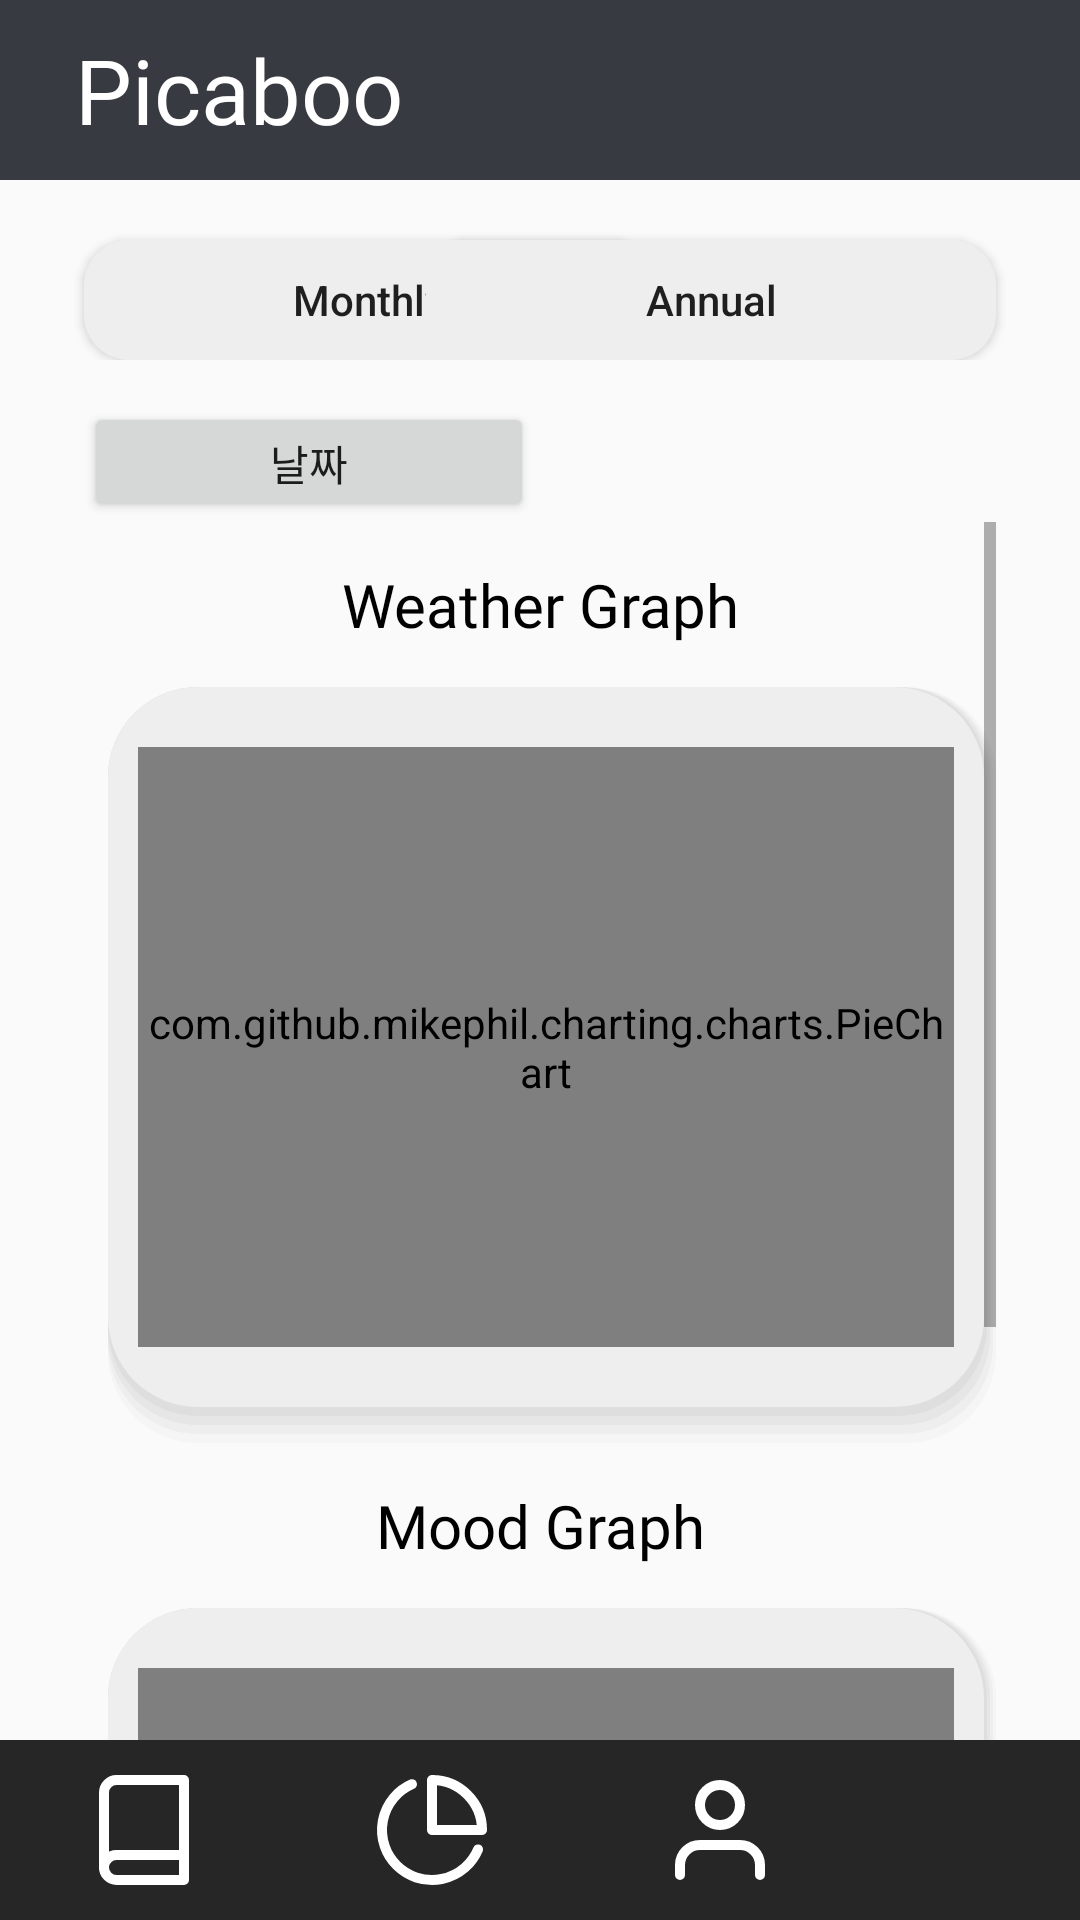

Icons on this 1080x1920 Android screen, each with the point to tap as (x=x, y=y):
book: (x=144, y=1830)
userinfo: (x=720, y=1830)
